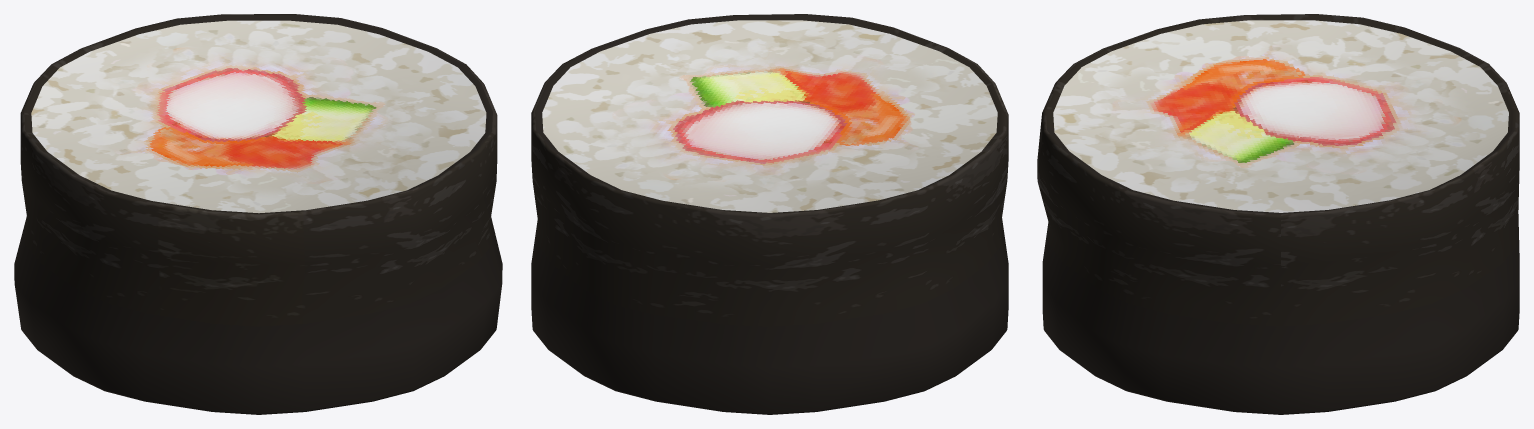
Rendered from Cali.fbx.
3 views of the same model, side by side, from view 1: azimuth 30°, elevation 25°; view 2: azimuth 150°, elevation 25°; view 3: azimuth 270°, elevation 25° (orthographic).
Visible parts, largest first — view 1: Sushi_Cali.002; view 2: Sushi_Cali.002; view 3: Sushi_Cali.002.
Part boxes in pixels (x1,y1,x2,y2): Sushi_Cali.002: [14, 14, 502, 414]; Sushi_Cali.002: [531, 14, 1008, 414]; Sushi_Cali.002: [1037, 14, 1519, 414].
Bounding box in the file's own units: 0.6846 × 0.6837 × 0.3145.
